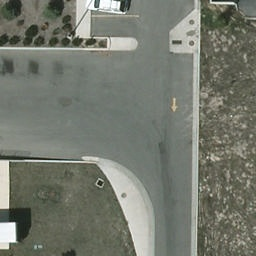car: (83, 0, 132, 17)
truck: (0, 223, 18, 244)
